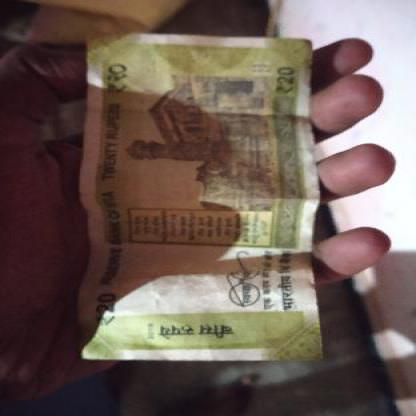New20Back: (86, 38, 314, 354)
